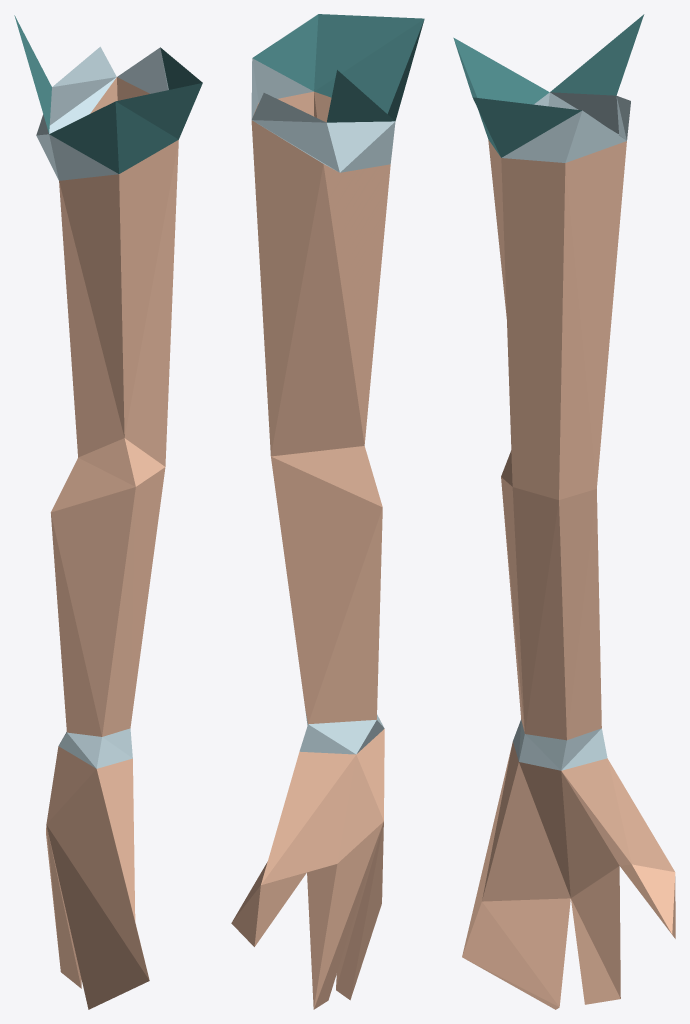
File: ArmL_Lo.obj
The picture shows the model from 3 angles, left to right: view 1: azimuth 30°, elevation 25°; view 2: azimuth 150°, elevation 25°; view 3: azimuth 270°, elevation 25°; orthographic projection.
Bounding box in the file's own units: 0.1223 × 0.8781 × 0.1804.
1 material, 1 textured.
